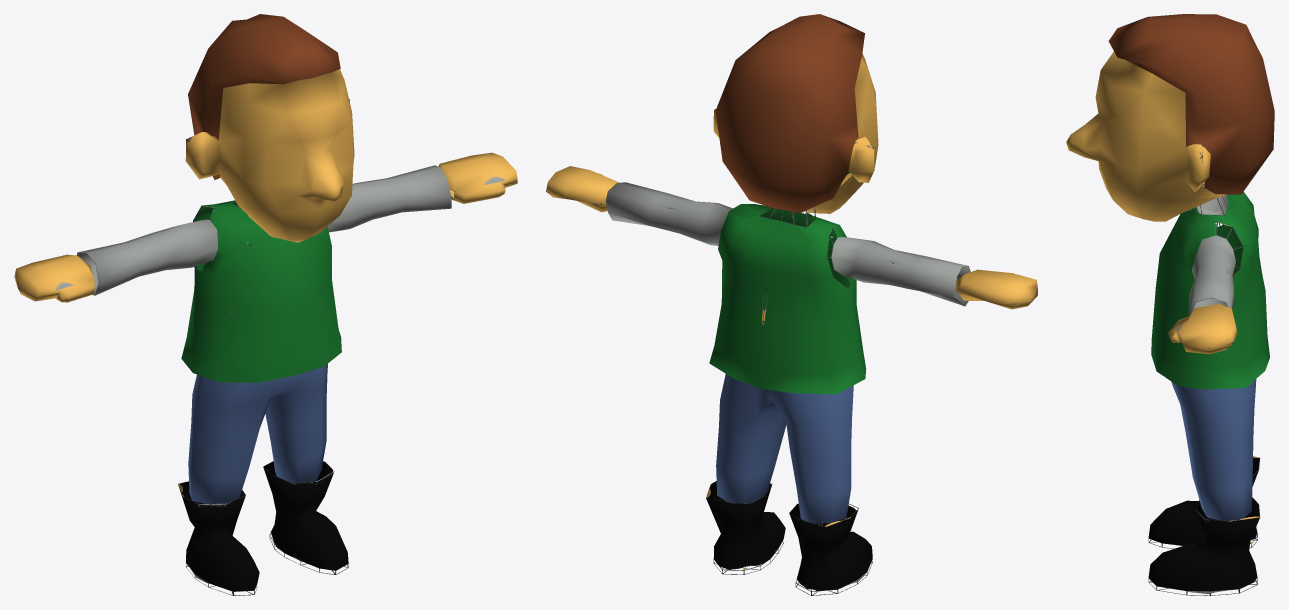
The model's file is dad.fbx.
3 views of the same model, side by side, from view 1: azimuth 30°, elevation 25°; view 2: azimuth 150°, elevation 25°; view 3: azimuth 270°, elevation 25° (orthographic). The views are drawn at different scales.
Visible parts, largest first — view 1: Retopo_torso.006; view 2: Retopo_torso.006; view 3: Retopo_torso.006.
Boxes of the visible parts, <box> form: Retopo_torso.006: <box>14,14,517,595</box>; Retopo_torso.006: <box>546,14,1037,595</box>; Retopo_torso.006: <box>1066,14,1274,595</box>.
Size of the model in its own units: 99.2 by 105 by 36.35.
Materials: 2 (2 with a texture image).
